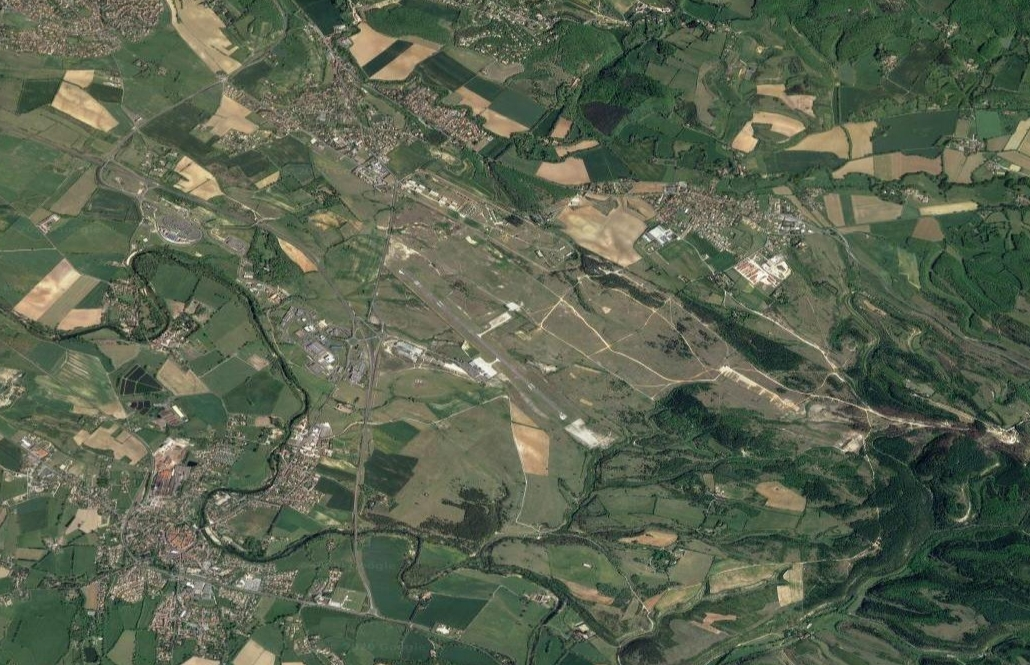airport: (397, 264, 573, 424)
